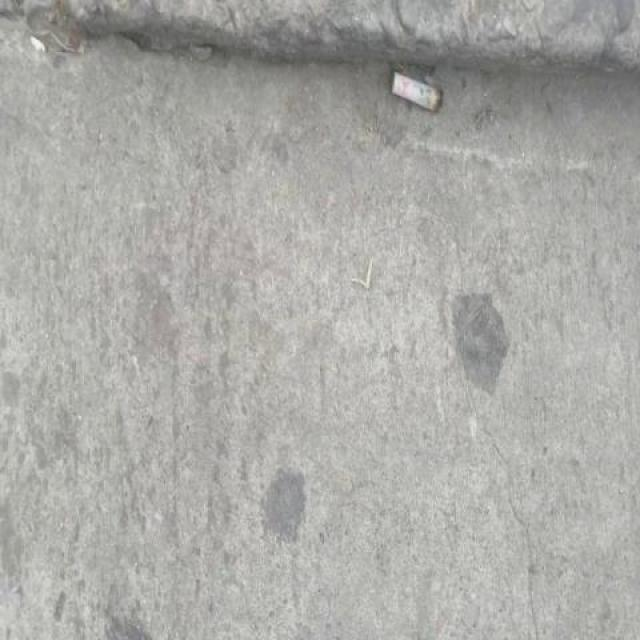non-organic waste: (385, 67, 447, 120)
